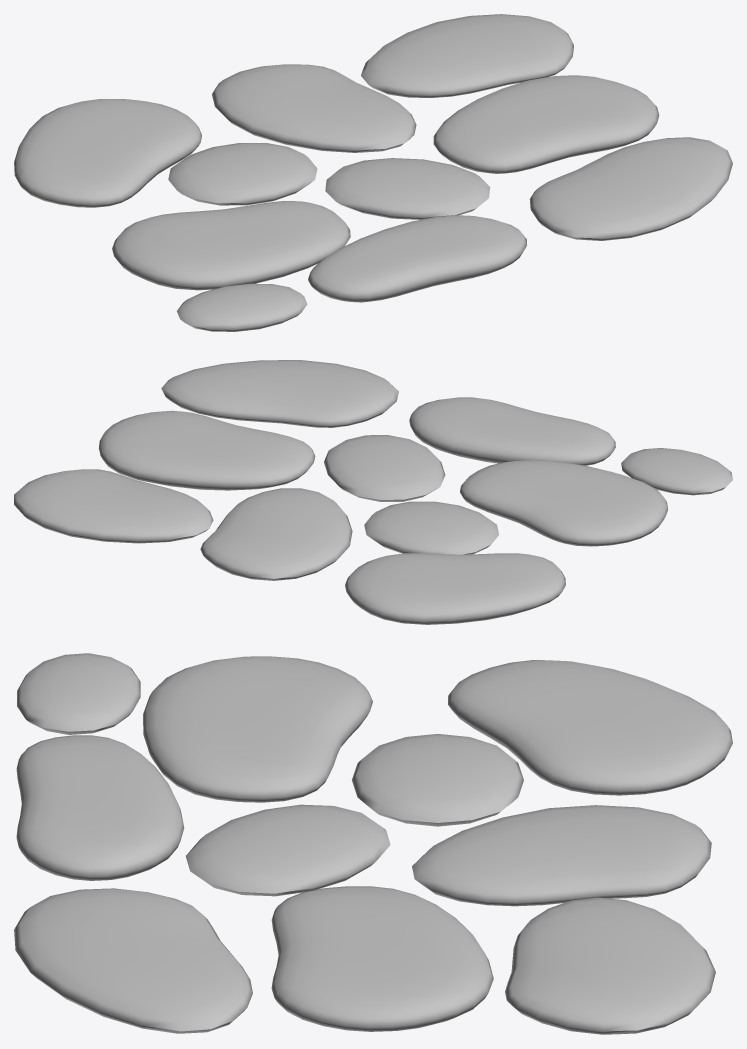
The model's file is Town_15_Path_1.glb.
The picture shows the model from 3 angles, top to bottom: view 1: azimuth 30°, elevation 25°; view 2: azimuth 150°, elevation 25°; view 3: azimuth 270°, elevation 25°; orthographic projection. The views are drawn at different scales.
Visible parts, largest first — view 1: Town_15_Path_1; view 2: Town_15_Path_1; view 3: Town_15_Path_1.
Part boxes in pixels (<box>): Town_15_Path_1: <box>14,14,732,331</box>; Town_15_Path_1: <box>14,360,732,624</box>; Town_15_Path_1: <box>14,653,732,1034</box>.
Size of the model in its own units: 2.69 by 0.1146 by 2.16.
Materials: 1 (1 with a texture image).
